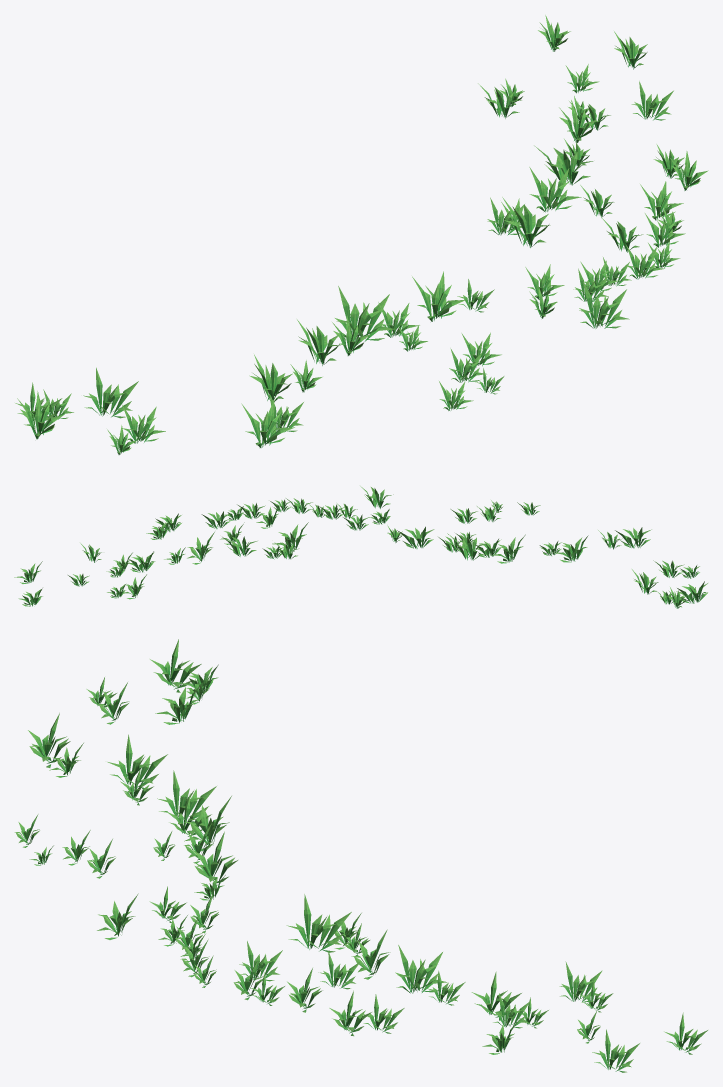
File: Area_09_30.fbx
The picture shows the model from 3 angles, top to bottom: view 1: azimuth 30°, elevation 25°; view 2: azimuth 150°, elevation 25°; view 3: azimuth 270°, elevation 25°; orthographic projection. The views are drawn at different scales.
Visible parts, largest first — view 1: Area_09_30; view 2: Area_09_30; view 3: Area_09_30.
Boxes of the visible parts, left/top/right/bottom form: Area_09_30: left=15, top=15, right=708, bottom=454; Area_09_30: left=14, top=486, right=707, bottom=608; Area_09_30: left=14, top=639, right=707, bottom=1072.
Bounding box in the file's own units: 1983 × 109 × 1456.
